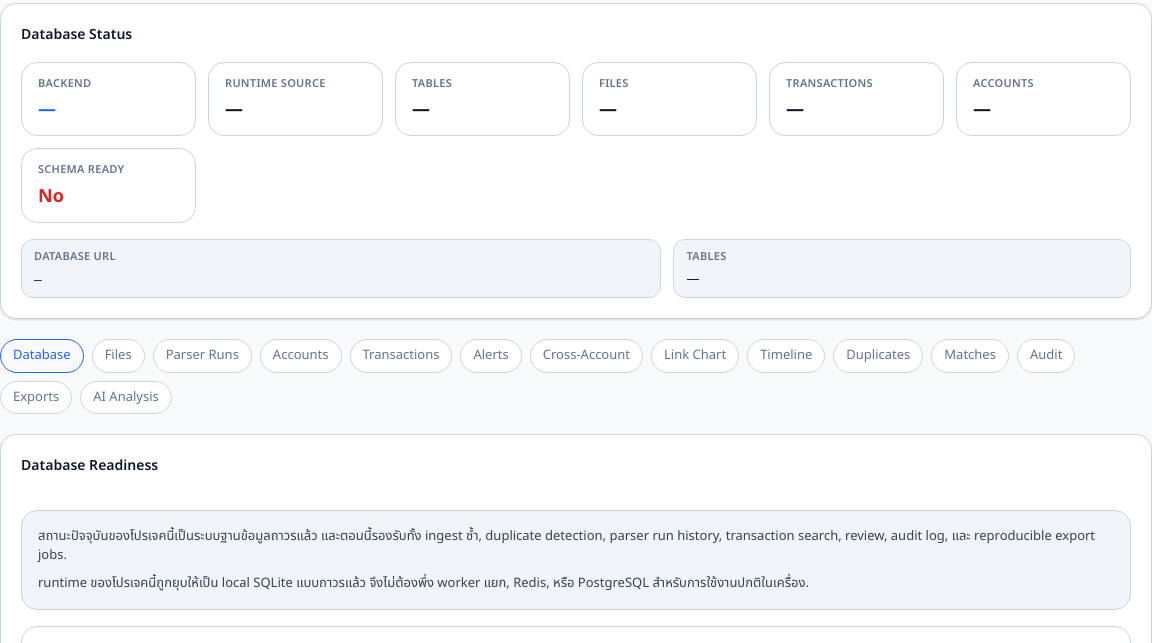
Test: InvestigationDesk date formatting › offers a learning feedback shortcut in the audit tab
Click the button "Audit".
click(1046, 356)  # box [1017,339,1075,373]
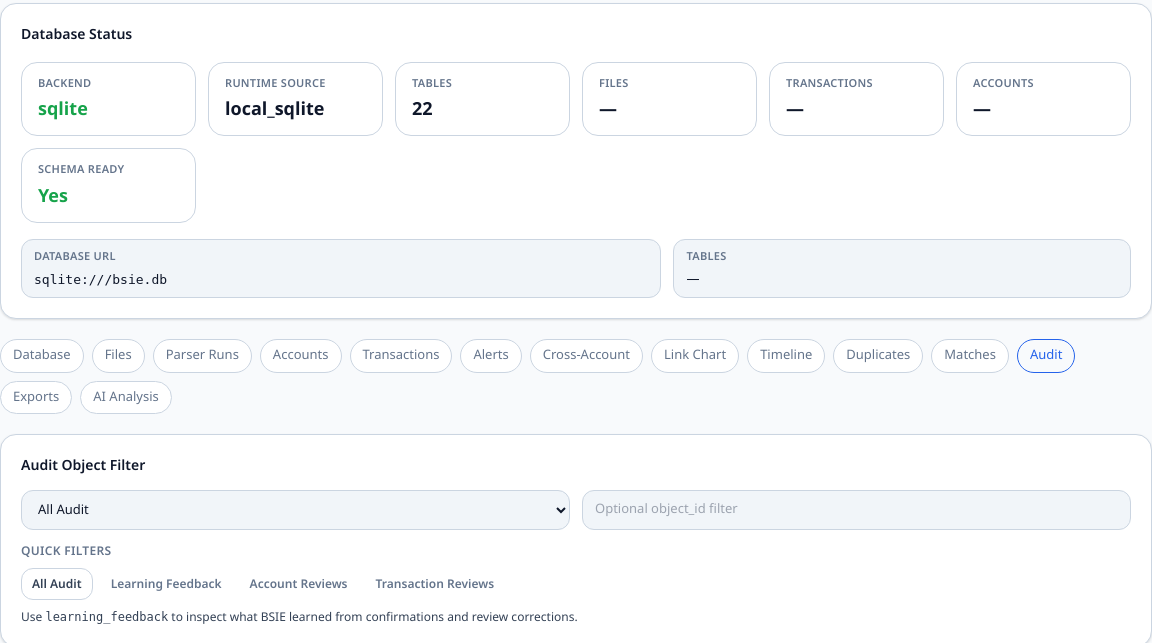
Click the button "Learning Feedback".
click(166, 584)  # box [101,568,232,600]
(page scrolled)
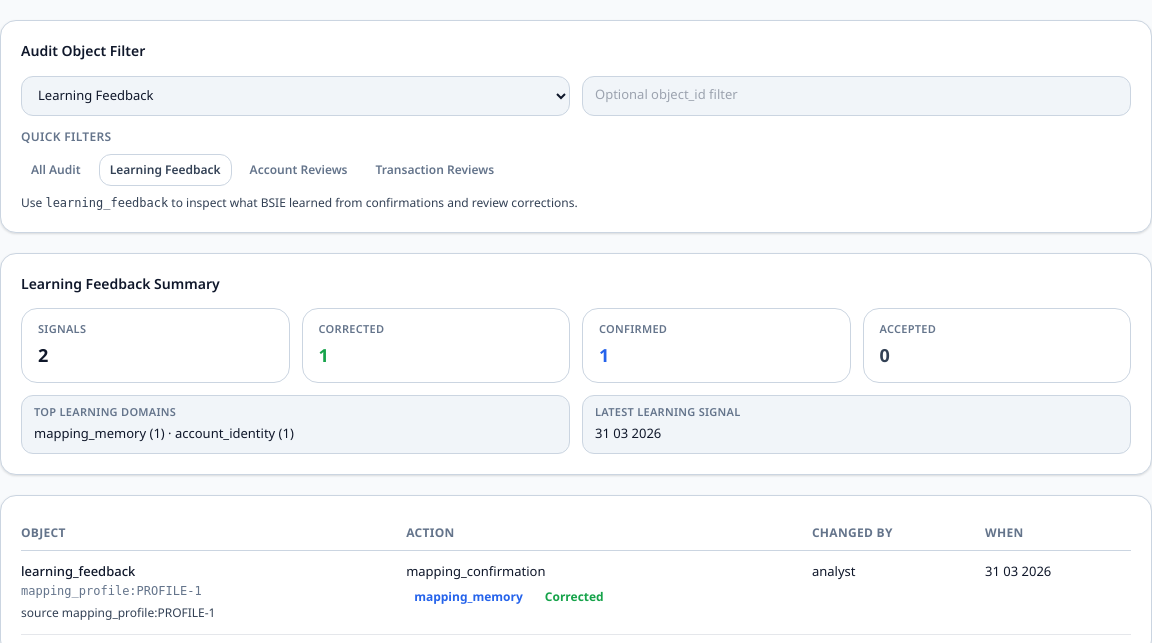
Now the heading "Learning Feedback Summary" is shown, box [21,274,220,295]
Now the text "mapping_memory (1) · account_identity (1)" is shown, box [34,424,294,444]
Now the text "source mapping_profile:PROFILE-1" is shown, box [21,604,216,622]
